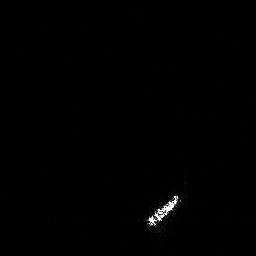ship: (145, 192, 183, 235)
